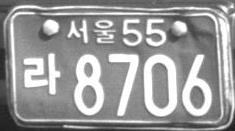0: (141, 52, 179, 117)
5: (120, 17, 143, 47), (144, 17, 167, 47)
6: (180, 53, 213, 117)
7: (107, 52, 140, 118)
8: (72, 53, 105, 116)
라: (21, 52, 61, 96)
서울_O: (66, 18, 117, 44)
